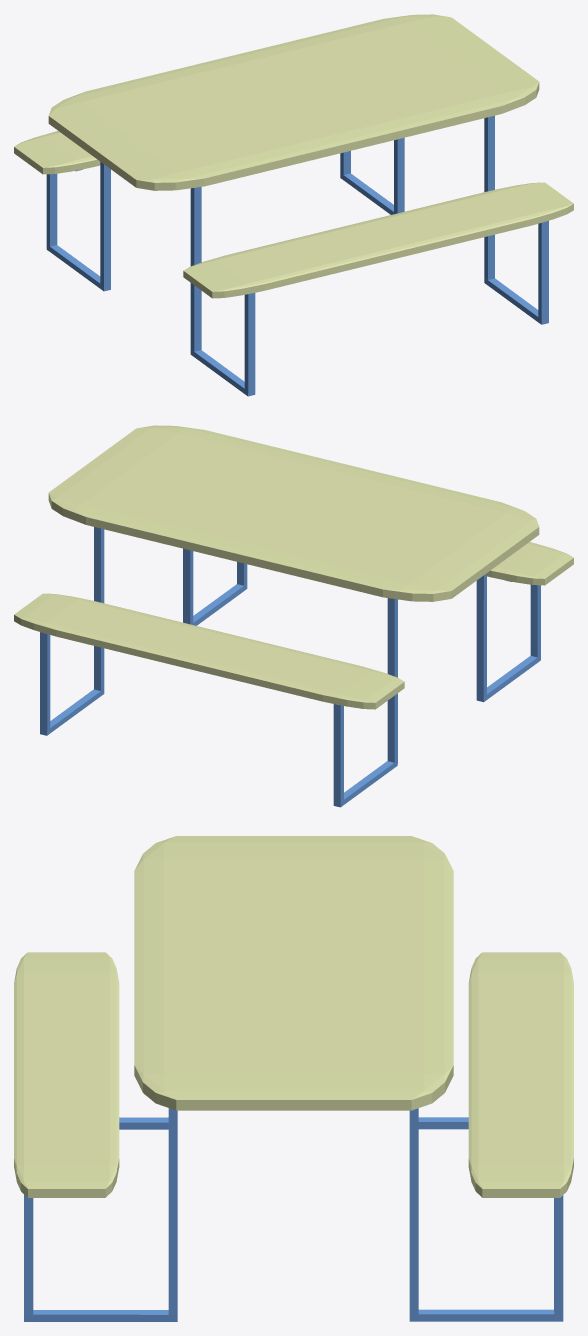
Rendered from TableChairFoodCourt.fbx.
The picture shows the model from 3 angles, top to bottom: view 1: azimuth 30°, elevation 25°; view 2: azimuth 150°, elevation 25°; view 3: azimuth 270°, elevation 25°; orthographic projection. The views are drawn at different scales.
Visible parts, largest first — view 1: Cube.002, Cube.004, Plane.003, Plane.002, Plane, Cube.003, Plane.001; view 2: Cube.002, Cube.003, Plane, Plane.001, Plane.003, Cube.004, Plane.002; view 3: Cube.002, Cube.003, Cube.004, Plane.001, Plane.002, Plane, Plane.003.
Boxes of the visible parts, x1,y1,x2,y2 form: Cube.002: (48, 14, 539, 190); Cube.004: (183, 182, 573, 298); Plane.003: (190, 187, 255, 396); Plane.002: (484, 115, 548, 324); Plane: (46, 162, 110, 291); Cube.003: (14, 131, 100, 174); Plane.001: (340, 137, 404, 214); Cube.002: (48, 425, 539, 601); Cube.003: (14, 593, 404, 709); Plane: (333, 598, 397, 807); Plane.001: (40, 527, 104, 735); Plane.003: (476, 573, 540, 702); Cube.004: (487, 542, 573, 585); Plane.002: (183, 548, 247, 625); Cube.002: (134, 836, 453, 1110); Cube.003: (468, 952, 573, 1197); Cube.004: (14, 952, 119, 1197); Plane.001: (409, 1108, 563, 1321); Plane.002: (24, 1108, 177, 1321); Plane: (418, 1117, 468, 1129); Plane.003: (119, 1117, 168, 1129).
Size of the model in its own units: 1269 by 571 by 1137.
